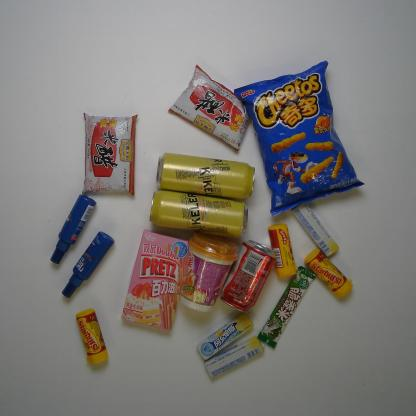Alcohol: (147, 189, 253, 241), (154, 152, 258, 202)
Candy: (193, 308, 256, 364), (287, 196, 342, 260), (204, 333, 266, 382), (304, 246, 356, 301), (73, 307, 111, 369), (267, 222, 300, 281)
Chocolate: (257, 263, 320, 354)
Dessert: (119, 231, 191, 334)
Drink: (220, 238, 278, 314)
Instant Drink: (176, 228, 240, 314)
Personal Hygiene: (59, 230, 114, 300), (47, 191, 97, 265)
Puffed Food: (232, 56, 368, 218)
Seasoner: (168, 62, 257, 155), (80, 108, 141, 202)
